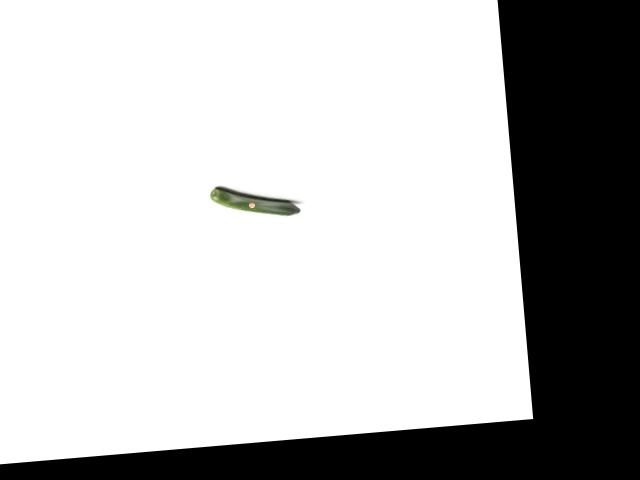cucumber: (208, 181, 300, 221)
